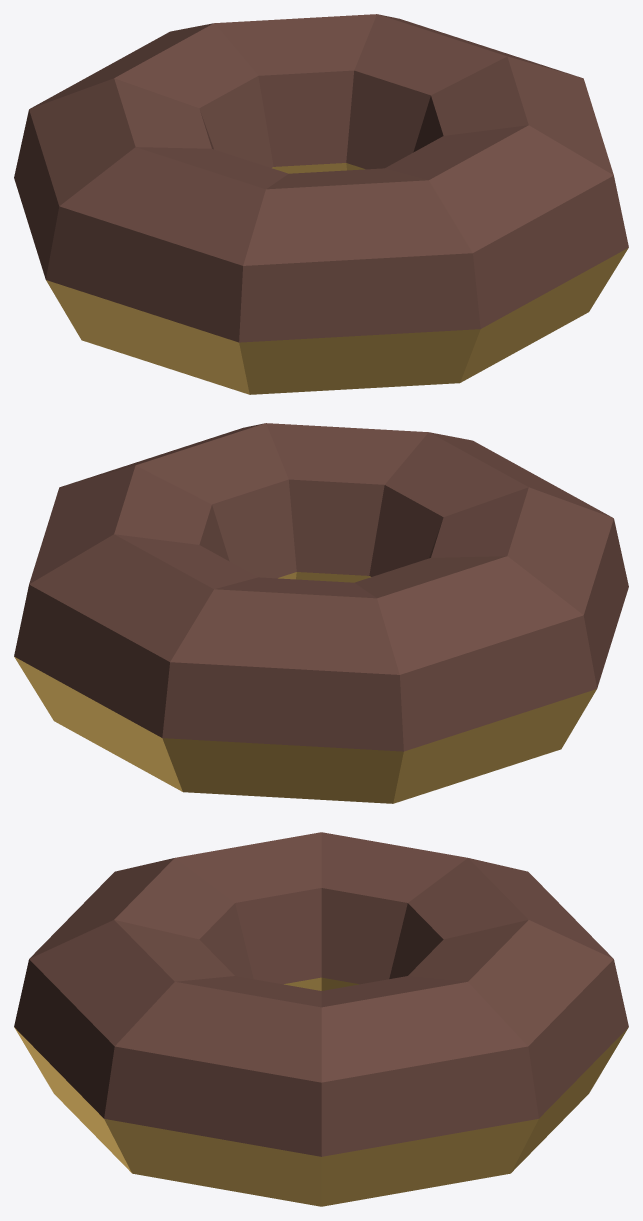
File: Donut_01.FBX
3 views of the same model, one above another, from view 1: azimuth 30°, elevation 25°; view 2: azimuth 150°, elevation 25°; view 3: azimuth 270°, elevation 25° (orthographic). The views are drawn at different scales.
Parts seen in each view (by area): view 1: Donut_01; view 2: Donut_01; view 3: Donut_01.
Part boxes in pixels (box(x1,y1,x2,y2)): Donut_01: box(14, 14, 628, 394); Donut_01: box(14, 423, 628, 803); Donut_01: box(14, 832, 628, 1206).
Size of the model in its own units: 21.79 by 6.8 by 21.79.
